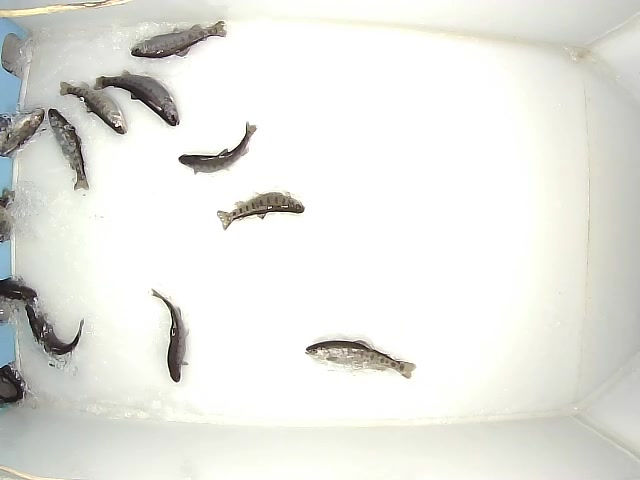fish: (93, 68, 181, 127), (304, 339, 417, 380), (178, 119, 259, 176), (146, 286, 190, 384), (129, 18, 229, 59), (215, 188, 306, 232), (58, 80, 128, 135), (23, 304, 85, 361), (47, 108, 89, 191), (1, 106, 46, 157)
